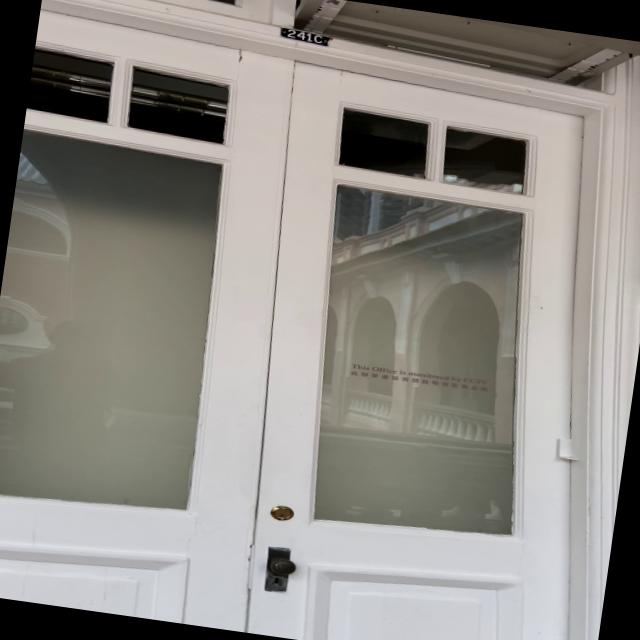room241c: (275, 22, 331, 50)
